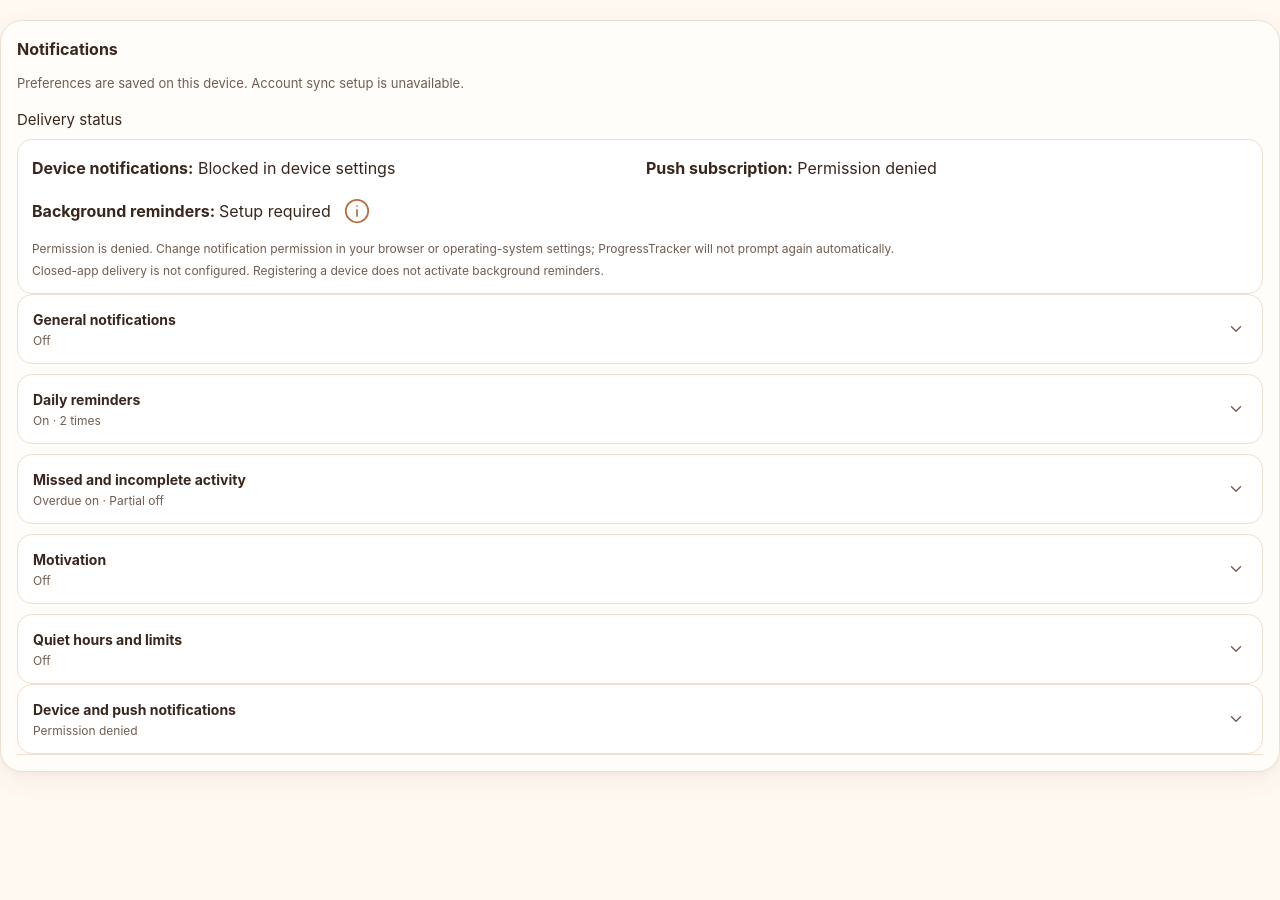
Test: notification settings › keeps account preferences editable when browser notification permission is denied
Expected: the element with class "notification-preferences-fieldset" is enabled, [17,294,1263,684]
Expected: the text "Permission is denied" is shown, [32,241,894,256]
Click the button "General notifications Off" at (104, 320), box [29,298,1251,360]
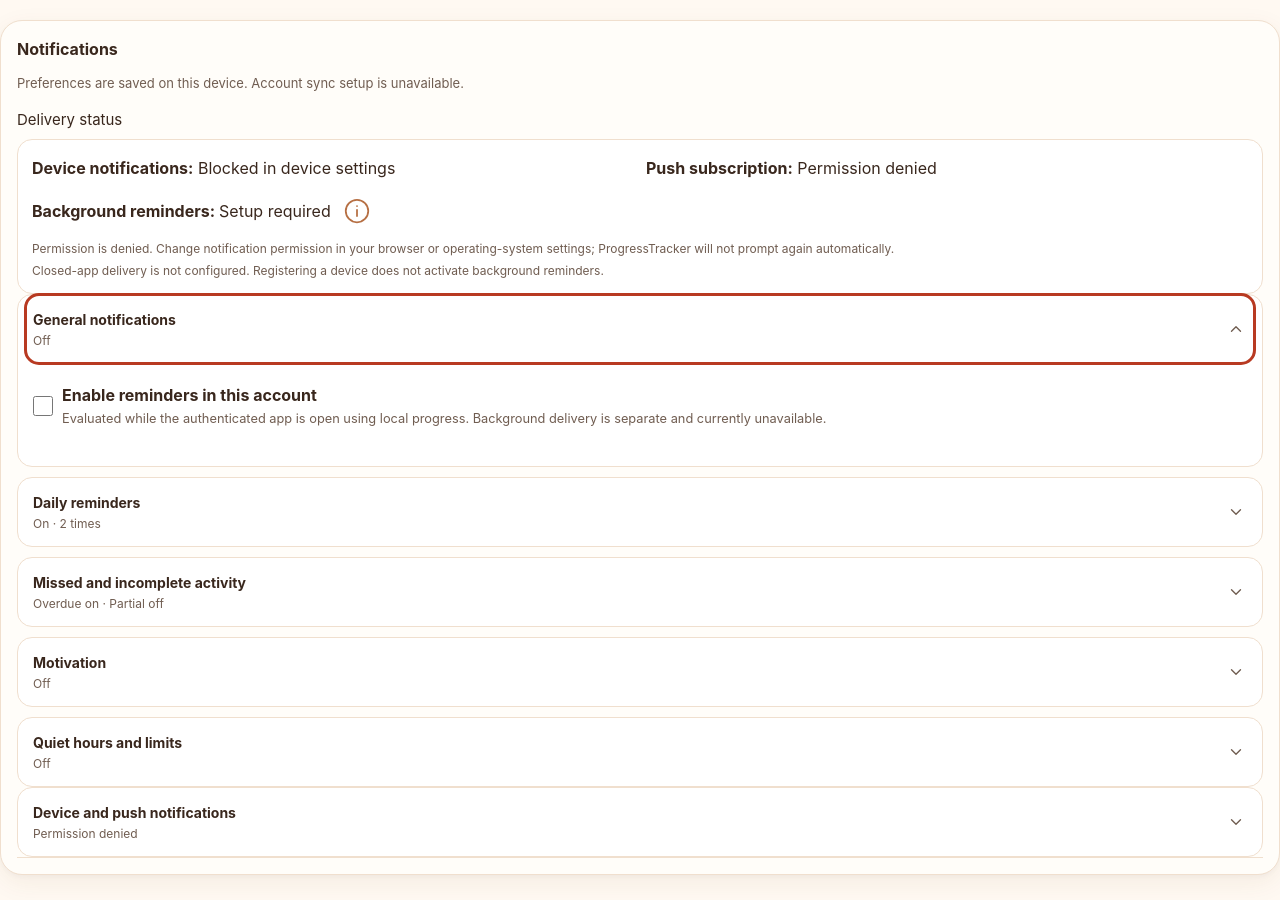
Expected: the checkbox labelled "Enable reminders in this account" is enabled, [33,396,53,416]
